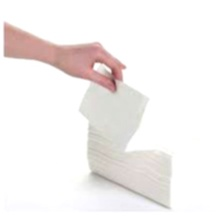tissue: (72, 58, 218, 211)
